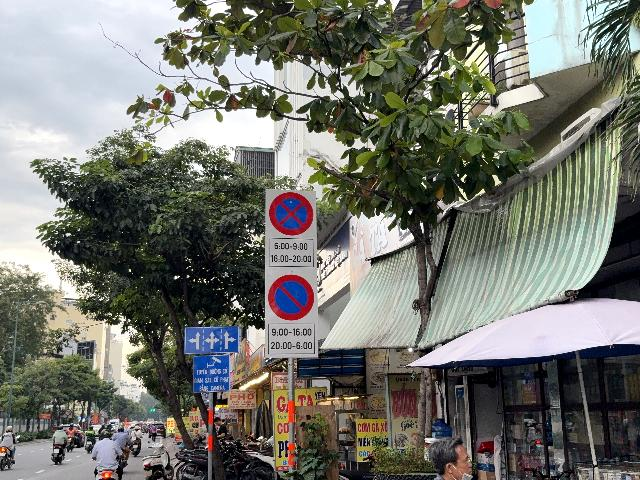cam-do-xe: (268, 274, 314, 321)
cam-dung-va-do-xe: (269, 192, 314, 236)
